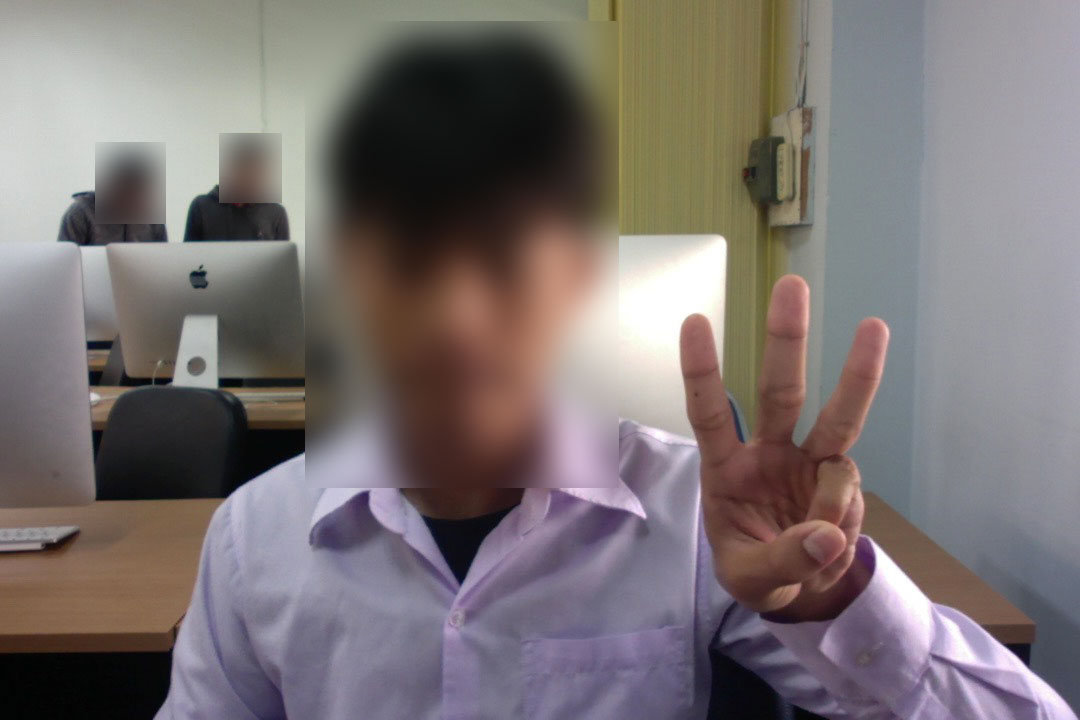wor: (644, 255, 917, 641)
